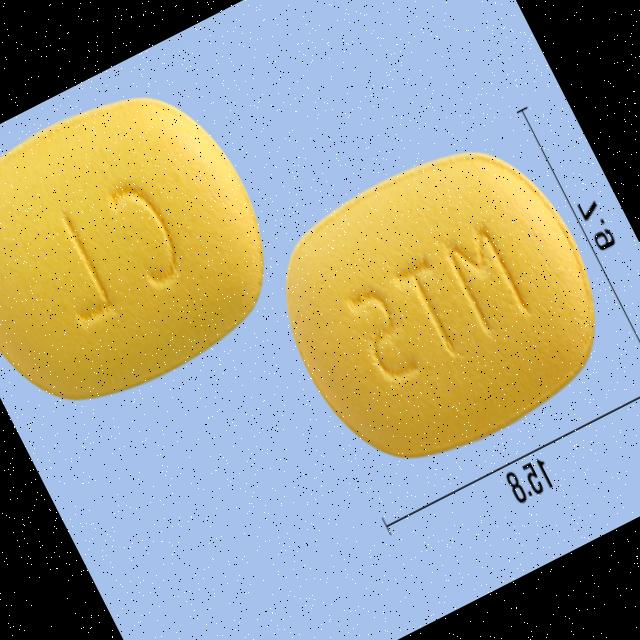Clarimacin - 500mg: (241, 111, 640, 504), (0, 62, 302, 438)
